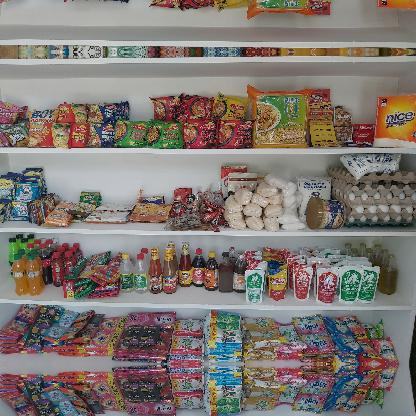Lady-s-Choice: (306, 196, 346, 228)
